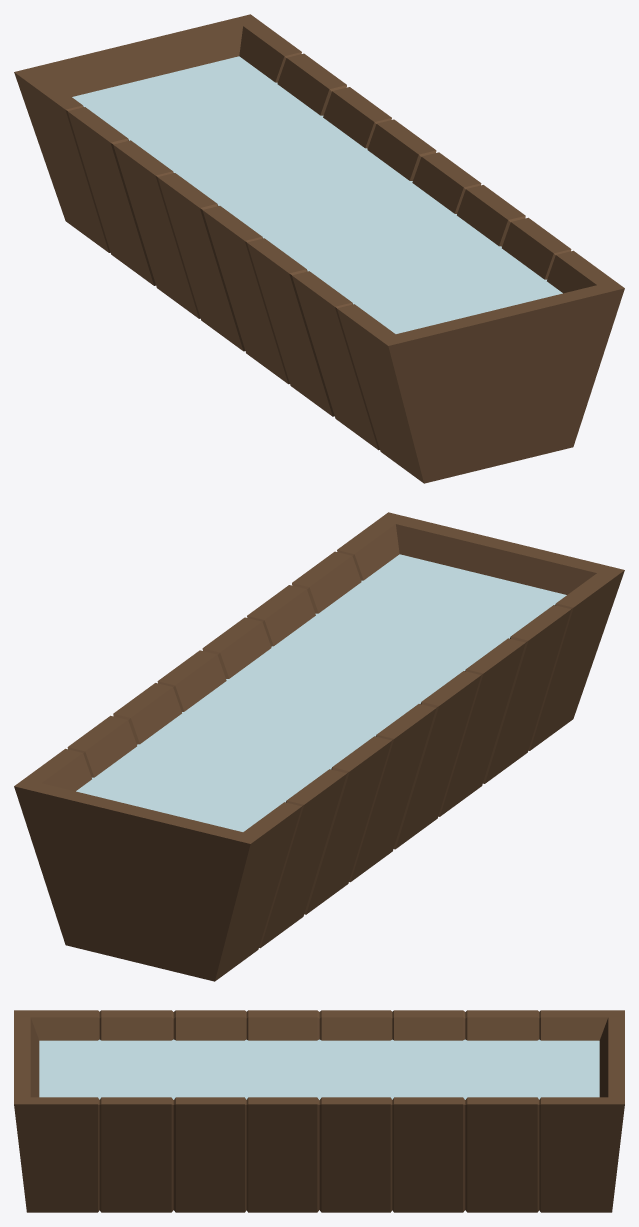
File: SM_Trough.fbx
3 views of the same model, one above another, from view 1: azimuth 30°, elevation 25°; view 2: azimuth 150°, elevation 25°; view 3: azimuth 270°, elevation 25° (orthographic). The views are drawn at different scales.
Parts seen in each view (by area): view 1: SM_Trough_LOD0; view 2: SM_Trough_LOD0; view 3: SM_Trough_LOD0.
Part boxes in pixels (bbox=[...]): SM_Trough_LOD0: bbox=[14, 14, 624, 483]; SM_Trough_LOD0: bbox=[14, 512, 624, 981]; SM_Trough_LOD0: bbox=[14, 1010, 624, 1212].
Size of the model in its own units: 80.36 by 220 by 50.
Materials: 1 (1 with a texture image).
